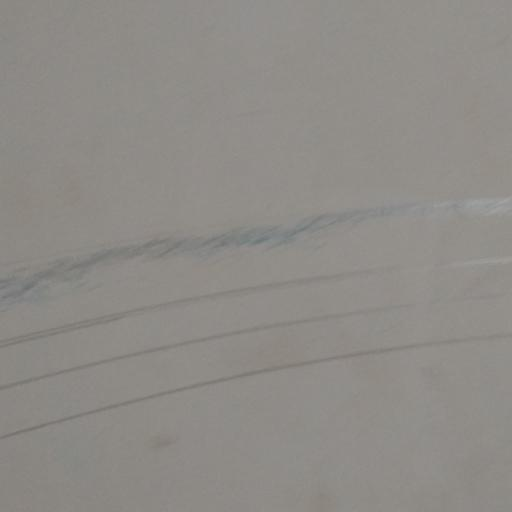stain: (5, 179, 512, 444), (133, 416, 181, 461)
